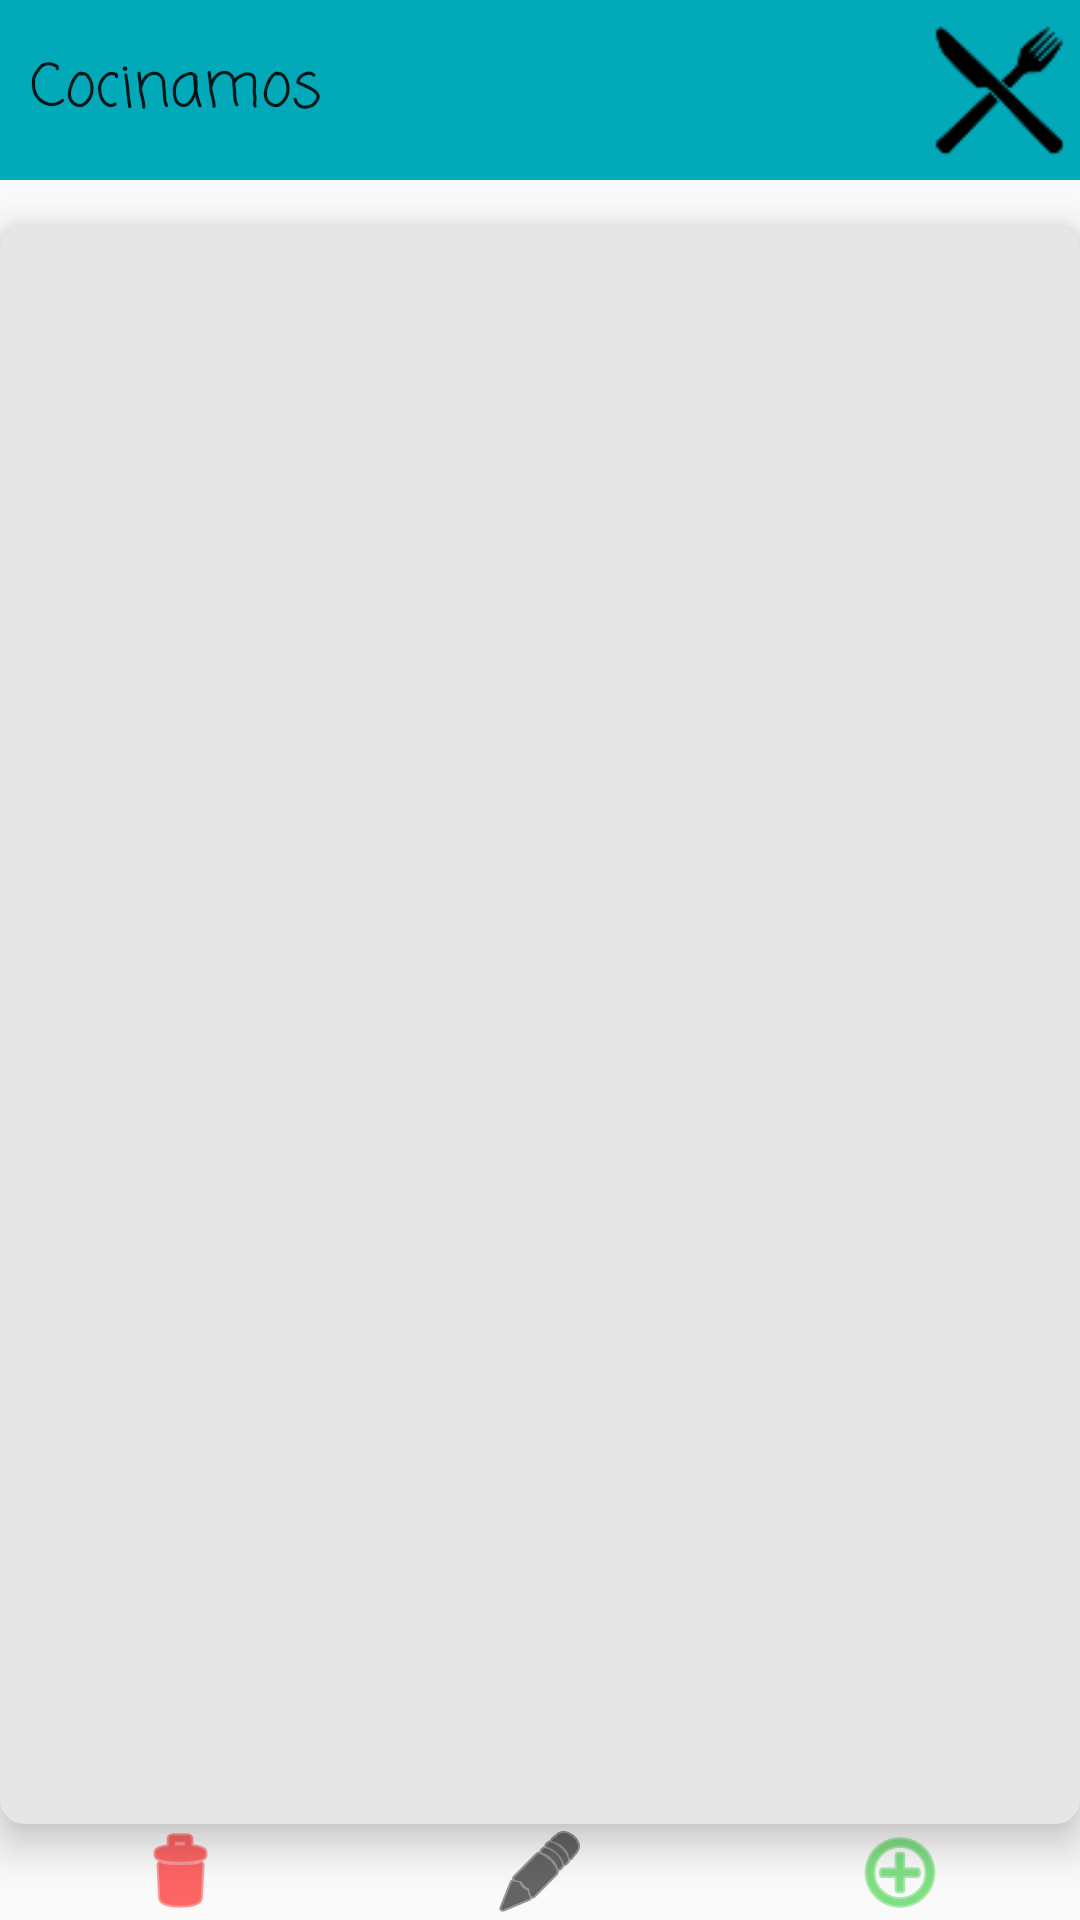

Screen size 1080x1920. Icon name, then its box in pixels as (x1, y1, x2, y2):
add: (865, 1837, 935, 1908)
delete: (153, 1833, 208, 1908)
